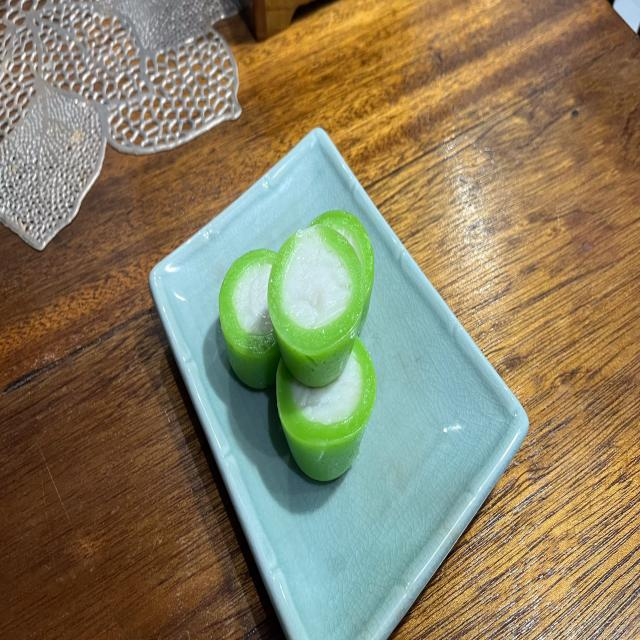nona-manis: (268, 224, 365, 387), (276, 338, 376, 480), (219, 249, 280, 389), (310, 211, 374, 333)
